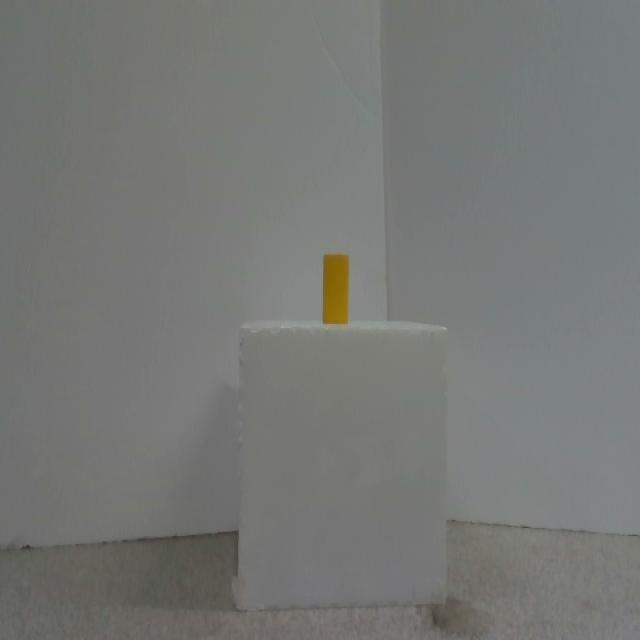yellow_cylinder: (324, 254, 348, 324)
